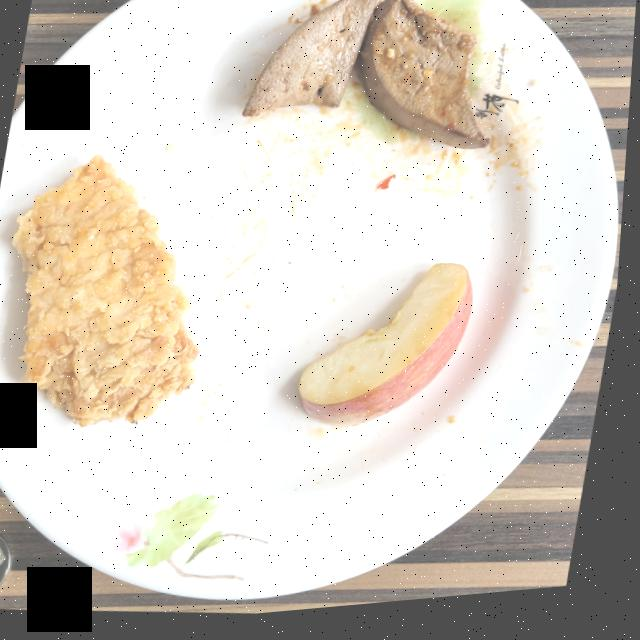apple -sliced-: (305, 271, 477, 432)
coin: (0, 533, 19, 593)
fried chicken cutlet: (15, 156, 203, 428)
pig liver: (244, 0, 491, 157)
